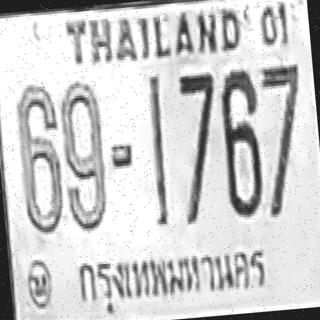N01: (144, 75, 171, 224)
N06: (13, 79, 66, 235), (216, 65, 266, 216)
N07: (258, 60, 310, 213), (174, 69, 224, 222)
N09: (57, 77, 110, 232)
P04: (72, 239, 271, 313)
